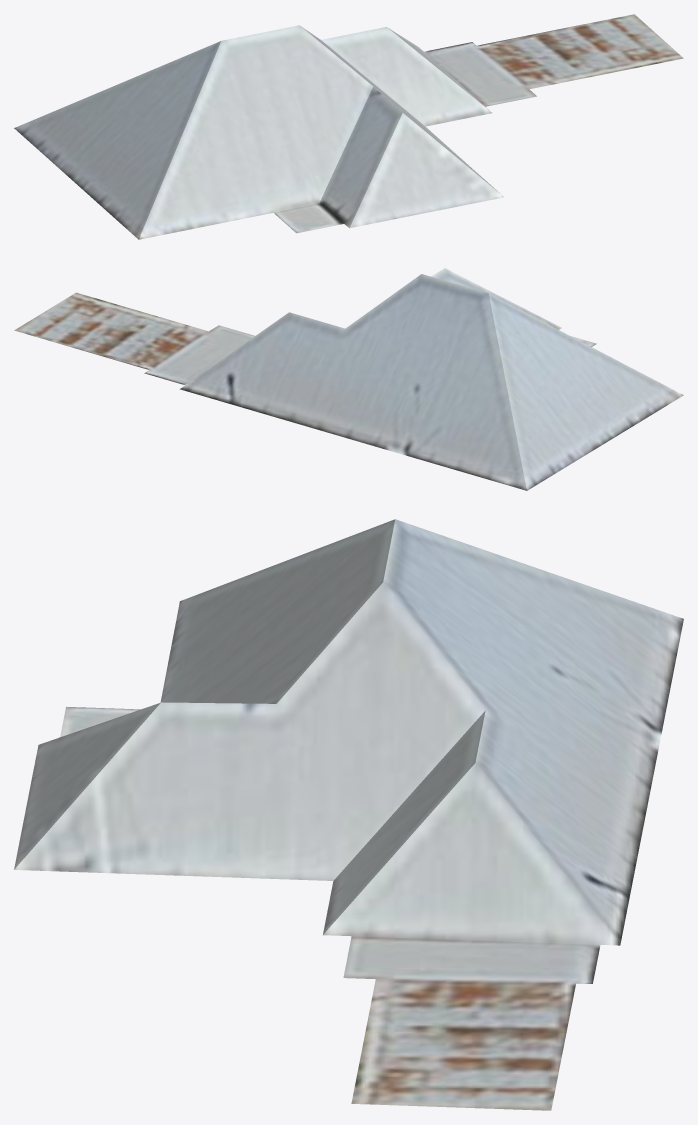
The model's file is CG10_500_042069_0023_roof.obj.
3 views of the same model, one above another, from view 1: azimuth 30°, elevation 25°; view 2: azimuth 150°, elevation 25°; view 3: azimuth 270°, elevation 25° (orthographic). The views are drawn at different scales.
Parts seen in each view (by area): view 1: CG10_500_042069_0023_roof; view 2: CG10_500_042069_0023_roof; view 3: CG10_500_042069_0023_roof.
Boxes of the visible parts, left/top/right/bottom form: CG10_500_042069_0023_roof: left=14, top=14, right=683, bottom=239; CG10_500_042069_0023_roof: left=14, top=268, right=683, bottom=490; CG10_500_042069_0023_roof: left=14, top=519, right=683, bottom=1110.
Bounding box in the file's own units: 374 × 70 × 208.
1 material, 1 textured.
